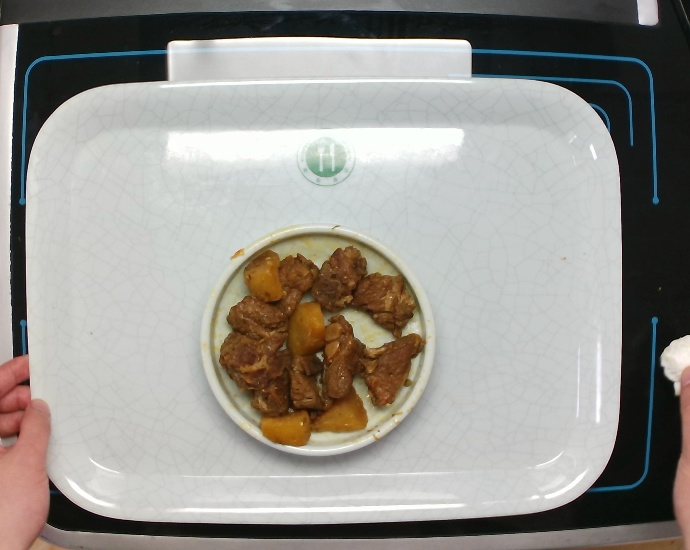JYsf-Xiao_Yuan_Pan: (197, 222, 439, 458)
